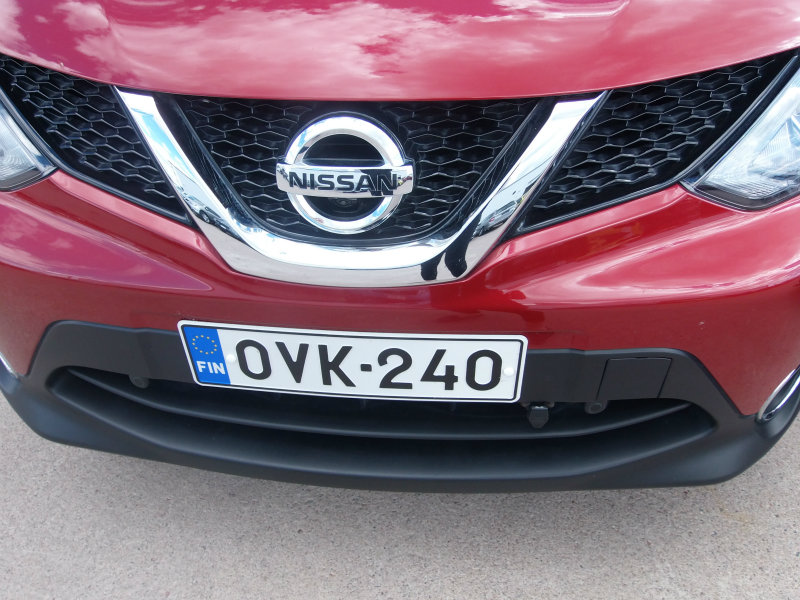license: (182, 318, 521, 405)
